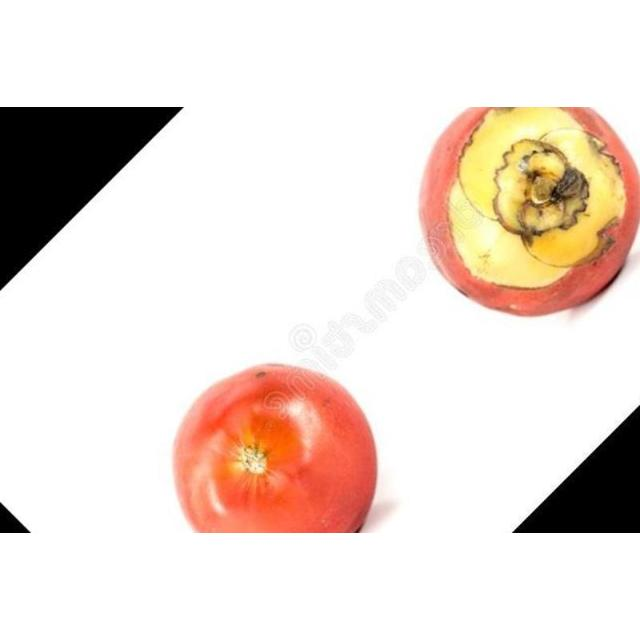good: (418, 107, 639, 319), (170, 364, 378, 533)
